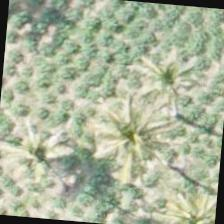Kelapa_Sawit: (121, 29, 219, 127), (79, 86, 177, 184), (0, 105, 91, 204), (147, 173, 219, 223)
